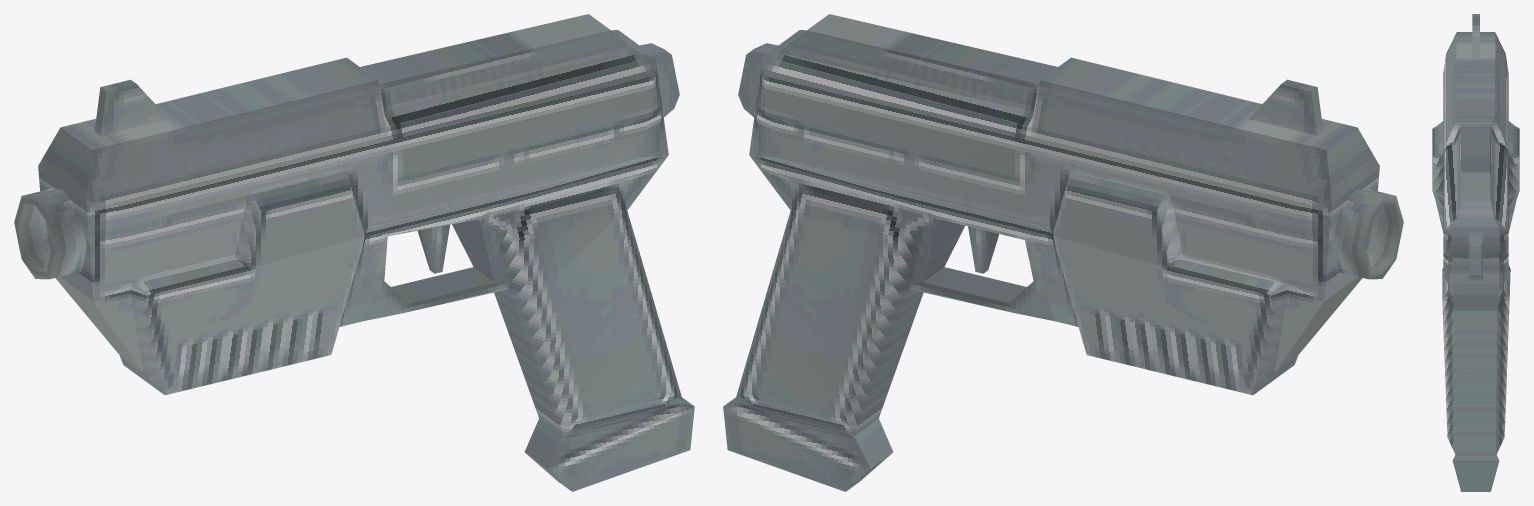
Rendered from ps2_save-icons_endgame.glb.
3 renders of one model, left to right at view 1: azimuth 30°, elevation 25°; view 2: azimuth 150°, elevation 25°; view 3: azimuth 270°, elevation 25°, orthographic. The views are drawn at different scales.
Parts seen in each view (by area): view 1: view.ico; view 2: view.ico; view 3: view.ico.
Part boxes in pixels (x1,y1,x2,y2): view.ico: (14, 14, 694, 491); view.ico: (723, 14, 1403, 491); view.ico: (1432, 14, 1519, 491).
Size of the model in its own units: 4.77 by 3.61 by 0.9055.
Materials: 1 (1 with a texture image).
